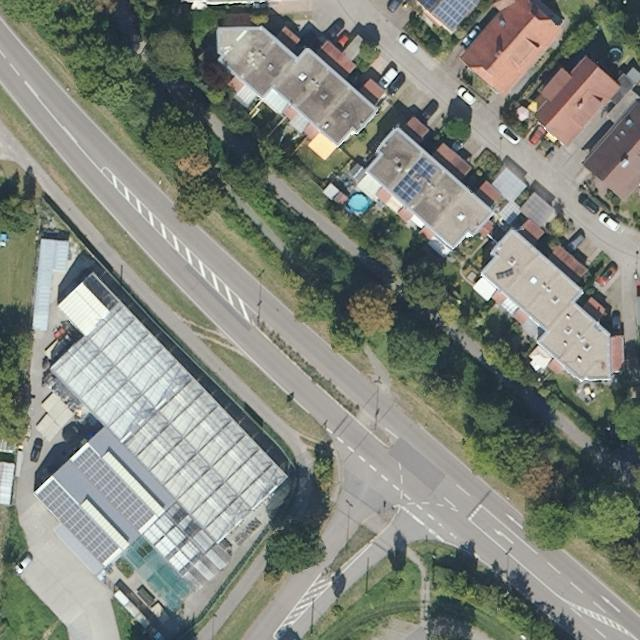PV: (69, 444, 158, 534), (34, 479, 122, 567), (388, 155, 444, 207), (419, 0, 483, 32)
